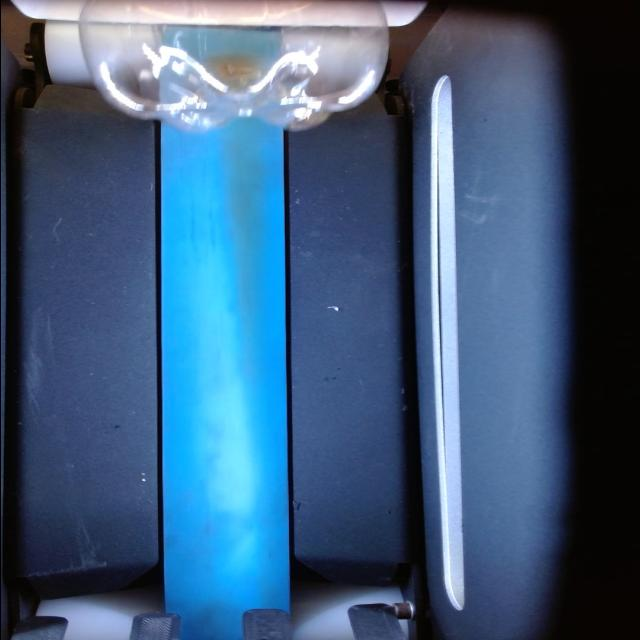bottom: (78, 0, 386, 130)
